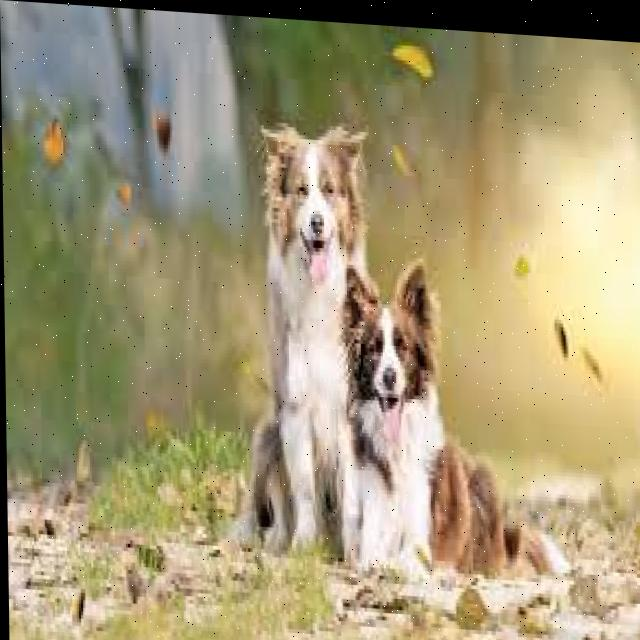ALASKAN_MALAMUTE: (338, 250, 555, 597), (239, 112, 377, 581)
